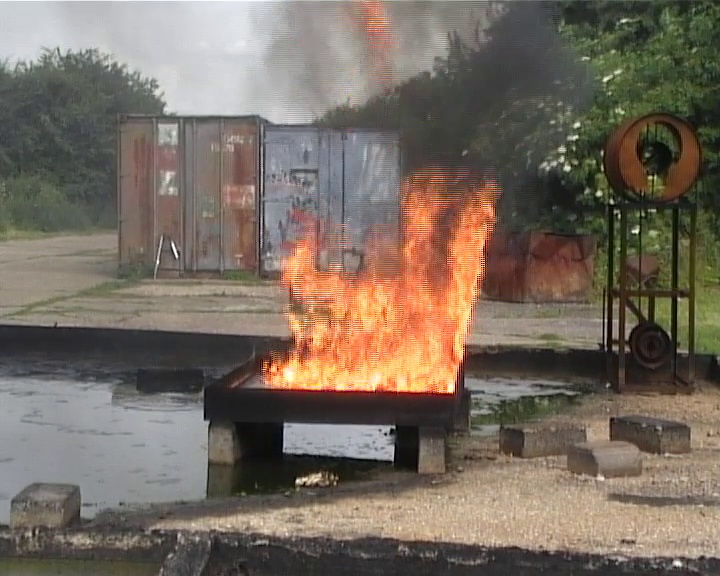fire: (261, 182, 497, 390)
